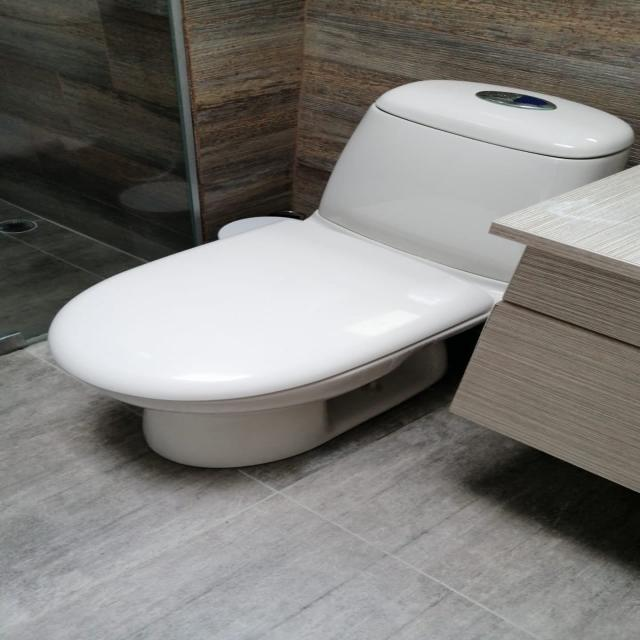toilet: (45, 79, 634, 469)
